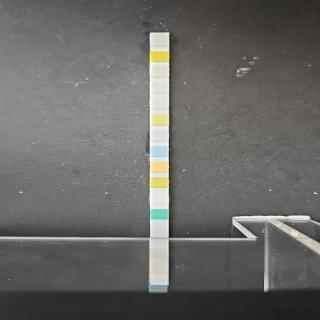mark: (151, 128, 168, 142), (151, 80, 168, 94), (151, 144, 168, 157), (151, 113, 168, 126), (150, 50, 168, 62), (150, 35, 168, 47), (151, 191, 168, 203), (151, 176, 168, 188), (151, 160, 168, 172), (150, 208, 168, 219), (152, 98, 168, 110), (152, 66, 168, 78)
